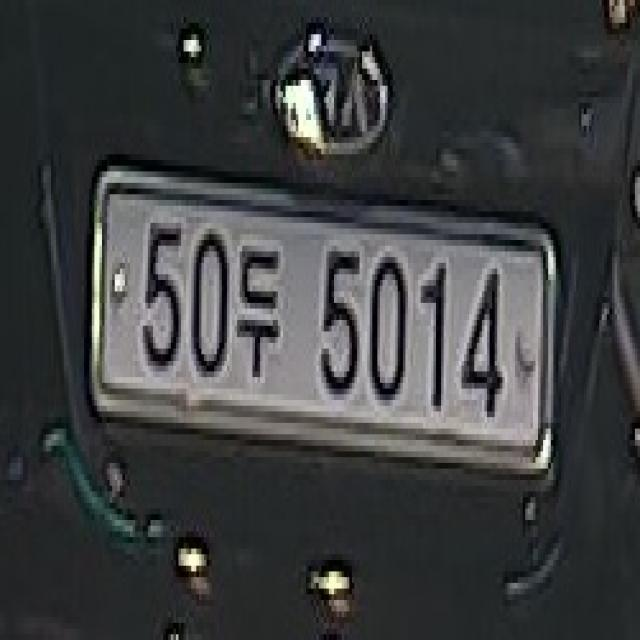0: (188, 224, 232, 387), (368, 241, 410, 410)
1: (418, 254, 448, 411)
4: (454, 254, 508, 430)
5: (132, 208, 182, 382), (312, 242, 360, 403)
du: (235, 231, 284, 391)
license_plate: (82, 159, 574, 501)
